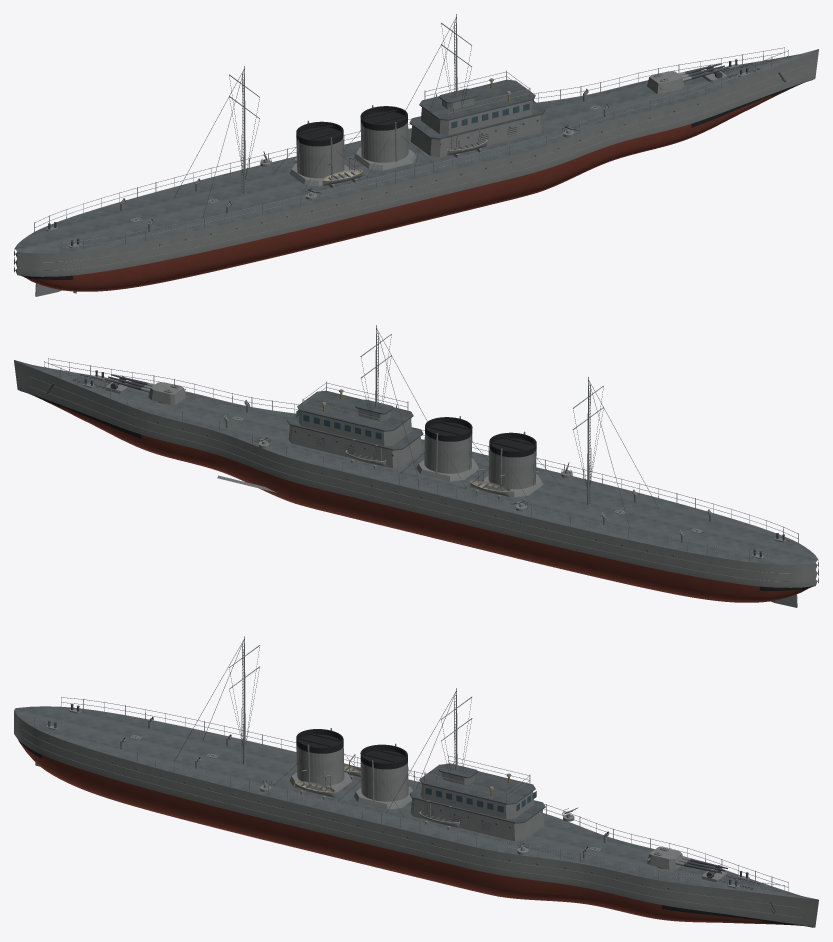
File: shima_t32.glb
The picture shows the model from 3 angles, top to bottom: view 1: azimuth 30°, elevation 25°; view 2: azimuth 150°, elevation 25°; view 3: azimuth 330°, elevation 25°; orthographic projection.
Parts seen in each view (by area): view 1: Shima class; view 2: Shima class; view 3: Shima class.
Boxes of the visible parts, <box> form: Shima class: <box>14,14,818,296</box>; Shima class: <box>14,325,818,607</box>; Shima class: <box>14,636,818,927</box>.
Size of the model in its own units: 84 by 18.21 by 10.42.
Materials: 9 (8 with a texture image).
